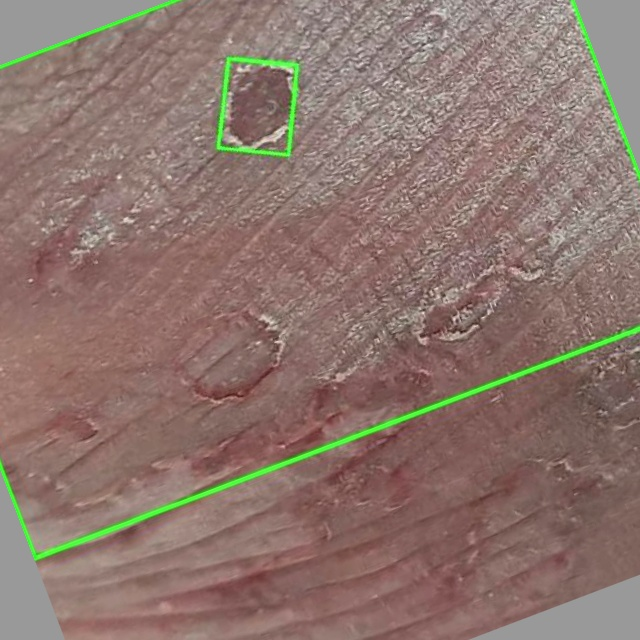Contact Dermatitis: (0, 0, 639, 559), (219, 58, 298, 155)
